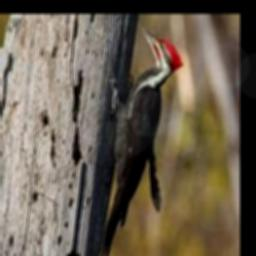Woodpecker: (98, 24, 183, 256)
